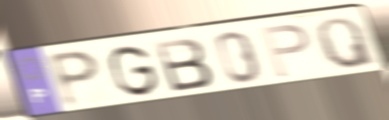0: (214, 28, 263, 86)
B: (150, 35, 215, 94)
G: (107, 43, 162, 99)
P: (44, 48, 103, 111), (258, 22, 313, 80)
Q: (314, 16, 381, 71)
